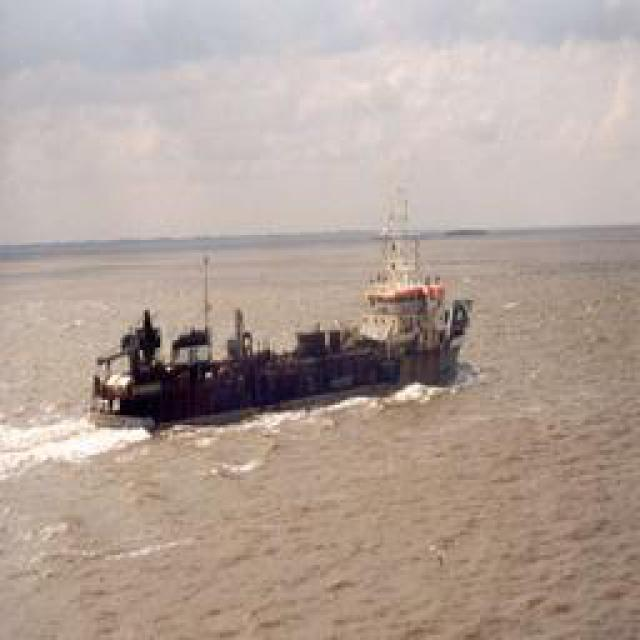Ship: (86, 244, 471, 429)
